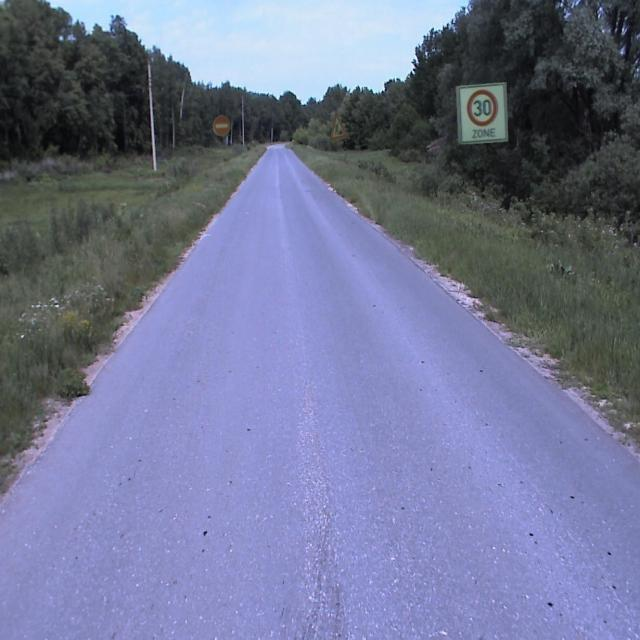road: (0, 148, 639, 639)
